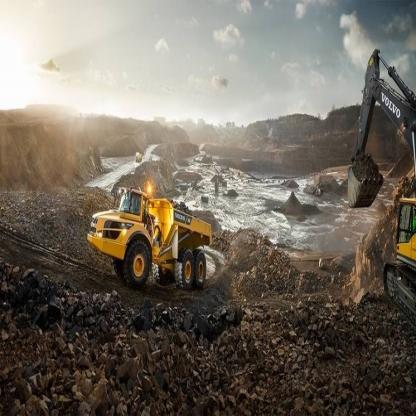dump_truck: (88, 176, 217, 293)
excavator: (344, 37, 415, 342)
